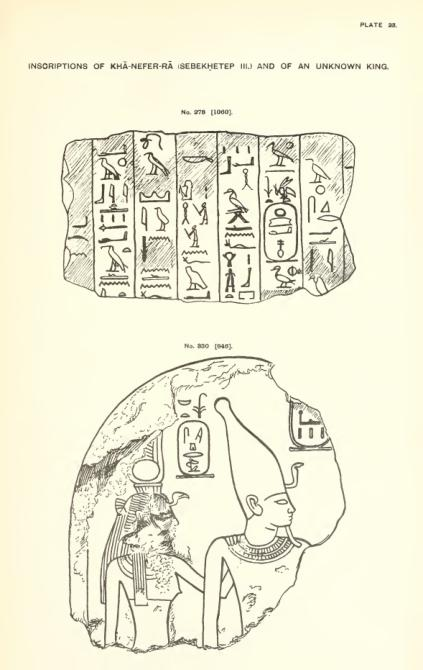circle: (176, 418, 216, 479), (262, 202, 300, 264)
